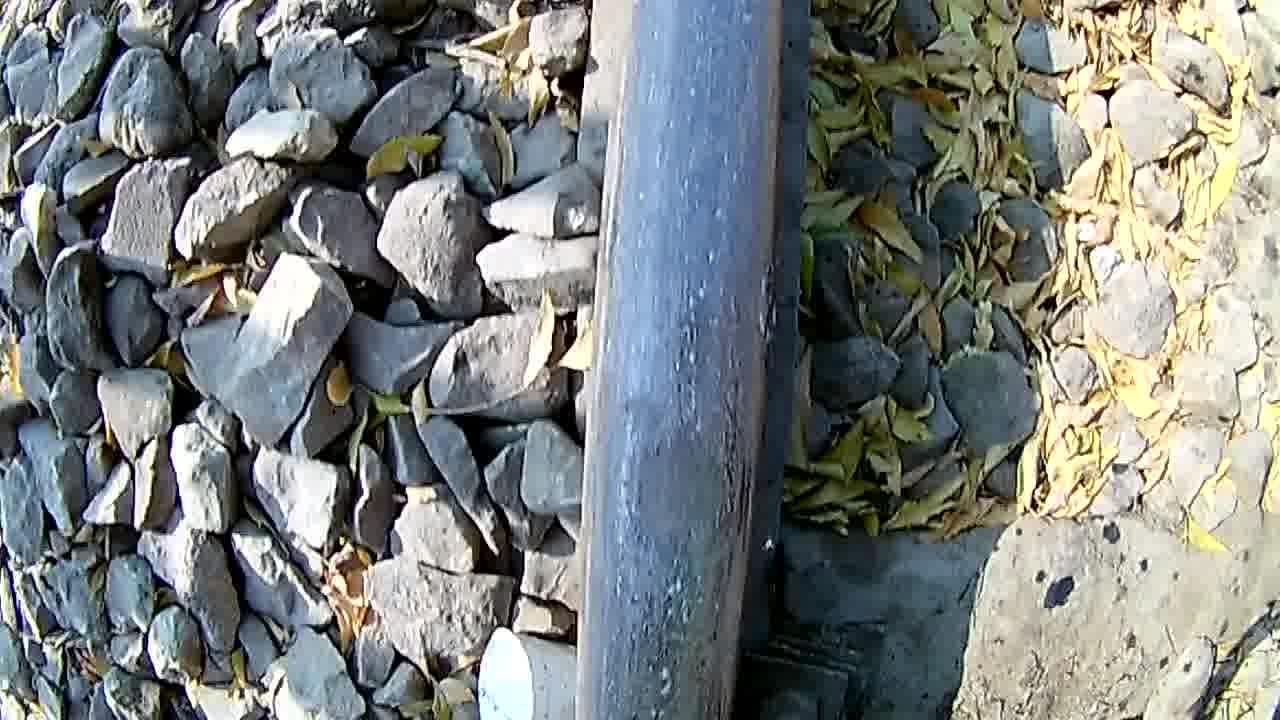crack: (576, 283, 767, 720)
